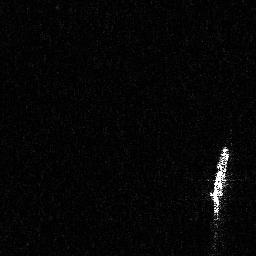ship: (206, 143, 231, 250)
